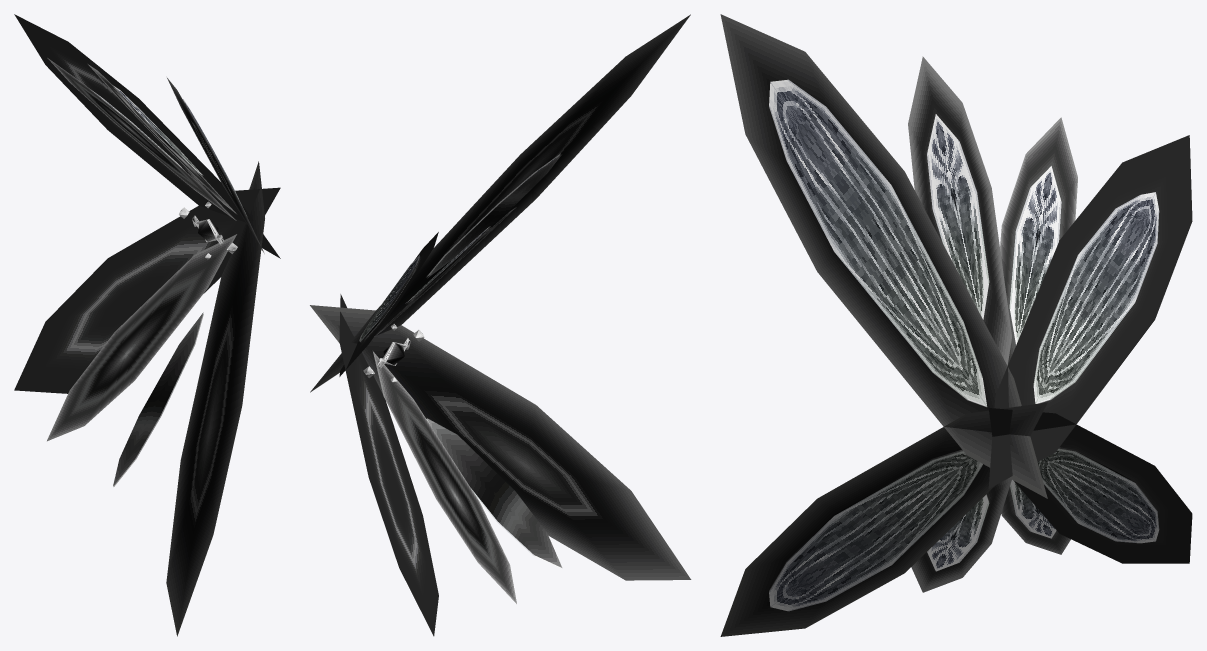
File: arms5004.obj
3 renders of one model, left to right at view 1: azimuth 30°, elevation 25°; view 2: azimuth 150°, elevation 25°; view 3: azimuth 270°, elevation 25°, orthographic. The views are drawn at different scales.
Parts seen in each view (by area): view 1: arms5004; view 2: arms5004; view 3: arms5004.
Part boxes in pixels (<box>): arms5004: <box>14,14,280,636</box>; arms5004: <box>310,14,691,636</box>; arms5004: <box>720,14,1192,636</box>.
Bounding box in the file's own units: 1.51 × 3.47 × 2.39.
2 materials, 2 textured.
